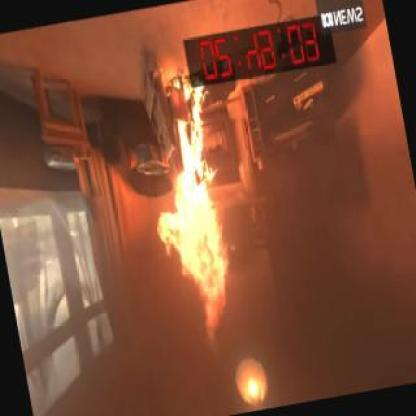Fire: (153, 68, 226, 348)
